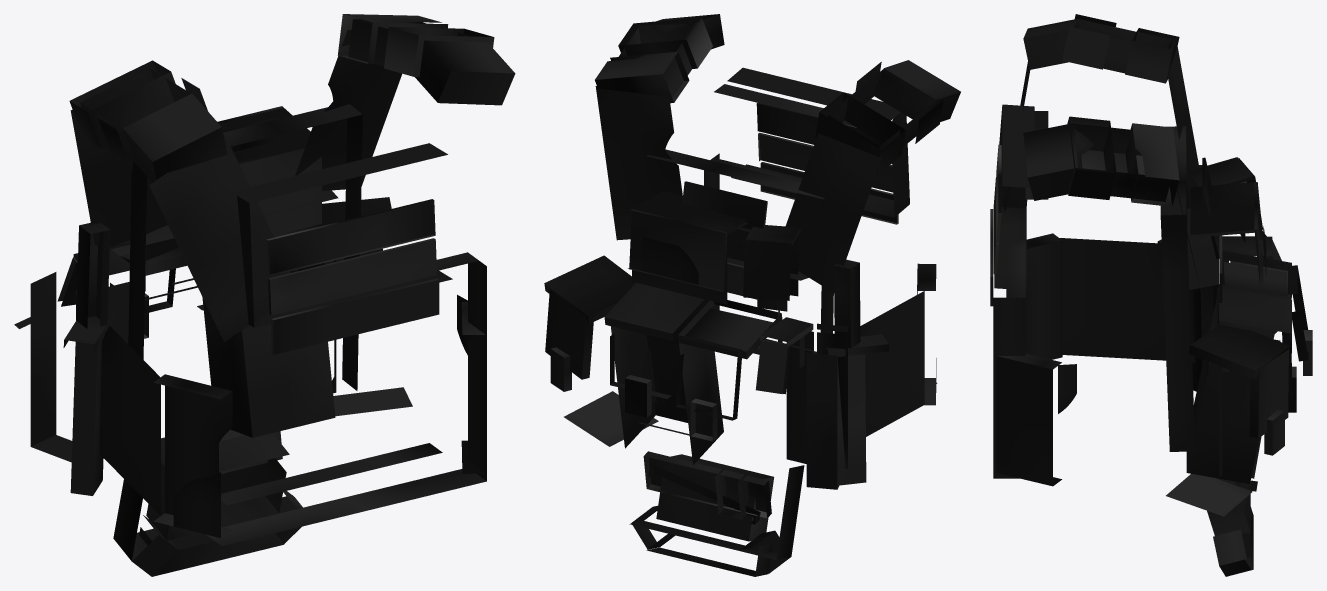
File: taro.obj
3 views of the same model, side by side, from view 1: azimuth 30°, elevation 25°; view 2: azimuth 150°, elevation 25°; view 3: azimuth 270°, elevation 25° (orthographic). The views are drawn at different scales.
Parts seen in each view (by area): view 1: mesh; view 2: mesh; view 3: mesh.
Boxes of the visible parts, x1,y1,x2,y2 form: mesh: (14, 14, 515, 576); mesh: (544, 14, 960, 576); mesh: (990, 14, 1312, 576).
Size of the model in its own units: 0.7153 by 1.02 by 0.625.
